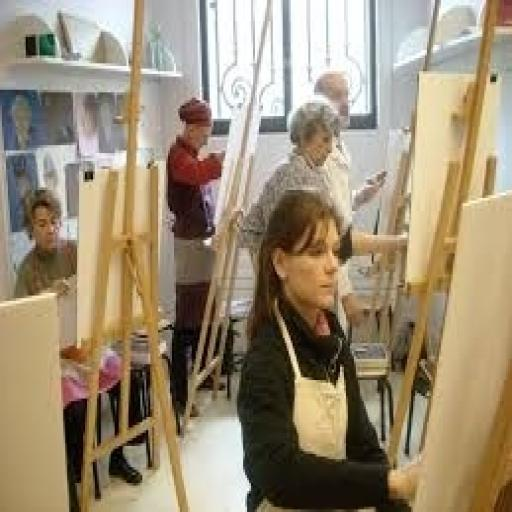sitting: (235, 188, 423, 510), (12, 184, 144, 494)
